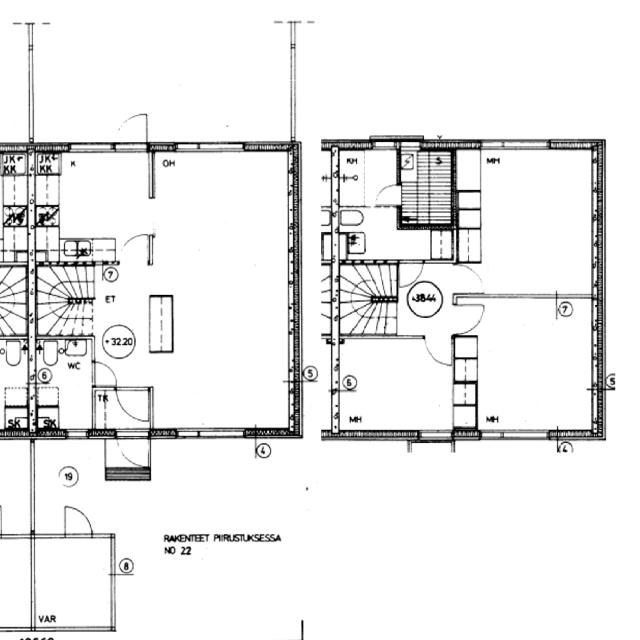door: (111, 110, 152, 150), (114, 429, 152, 468), (116, 230, 155, 266), (116, 386, 152, 424), (452, 300, 488, 335), (452, 263, 489, 297), (61, 503, 95, 539), (422, 334, 456, 368), (89, 358, 119, 388), (371, 181, 403, 208), (395, 260, 425, 288)
window: (170, 139, 248, 157), (479, 138, 552, 155), (172, 426, 247, 442), (480, 428, 550, 442), (326, 342, 341, 393), (52, 623, 110, 636), (68, 141, 114, 156), (63, 426, 91, 442), (33, 530, 68, 540)
zone: (156, 152, 304, 440), (457, 149, 600, 297), (454, 296, 599, 437), (33, 150, 154, 262), (334, 336, 462, 434), (30, 534, 114, 630), (32, 336, 94, 434), (400, 146, 468, 228), (336, 148, 399, 209), (147, 296, 175, 354)
